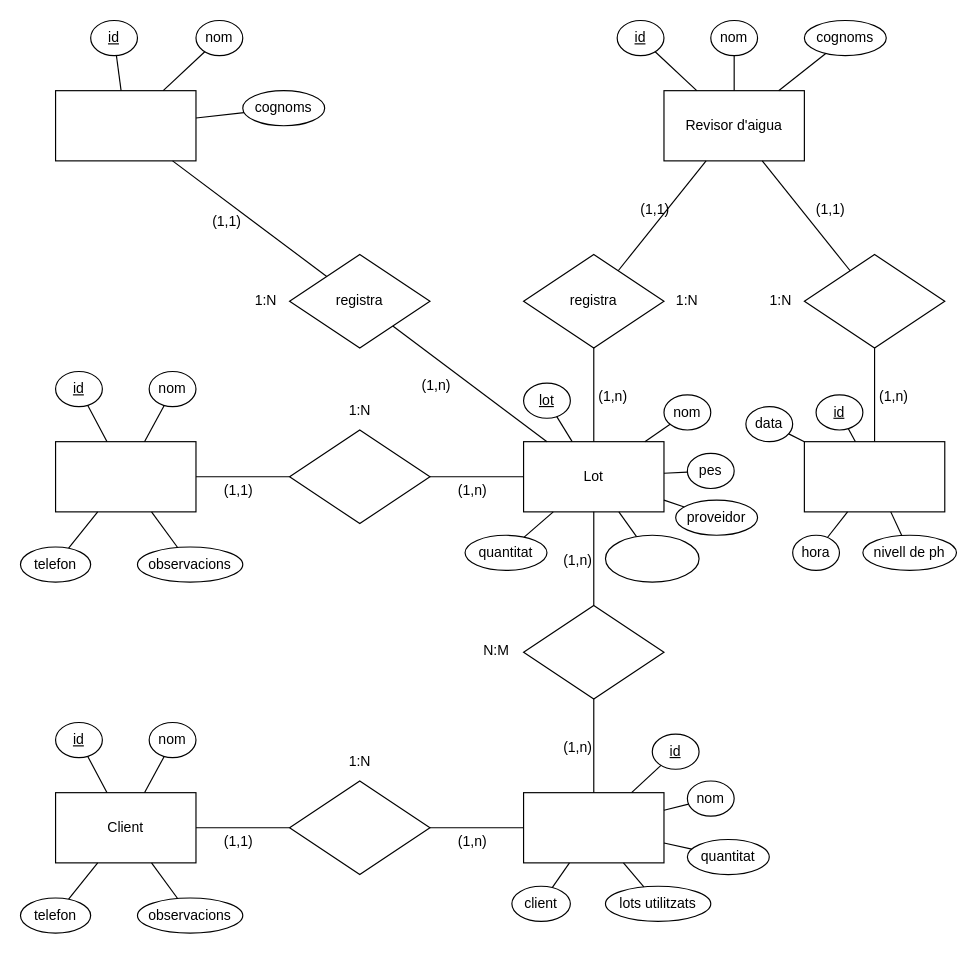
Some shapes in this 977 by 954 pixel diagram are drawn without their labels. Here are the shapes that lost their labels. From the top down, the centre of each, then its label:
At point 125,125: "Treballador".
At point 874,300: "realitza".
At point 125,476: "Proveïdor".
At point 359,476: "suministra".
At point 874,476: "Revisió d'aigua".
At point 651,558: "data de caducitat".
At point 593,651: "produeix".
At point 359,827: "compra".
At point 593,827: "Producte Final".
